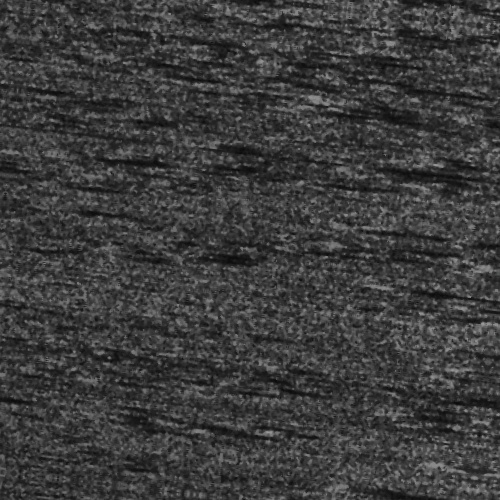object: (253, 96, 336, 107), (312, 144, 375, 157), (290, 489, 353, 500), (349, 468, 402, 477), (452, 435, 500, 444), (311, 207, 342, 220), (377, 265, 418, 272), (441, 16, 494, 21), (361, 66, 402, 71), (491, 314, 500, 319)
shadow: (322, 489, 437, 500), (295, 96, 410, 107), (344, 144, 438, 157), (327, 207, 418, 220), (376, 468, 494, 477), (398, 265, 495, 272), (382, 66, 480, 71), (479, 435, 500, 444), (468, 16, 500, 21)
